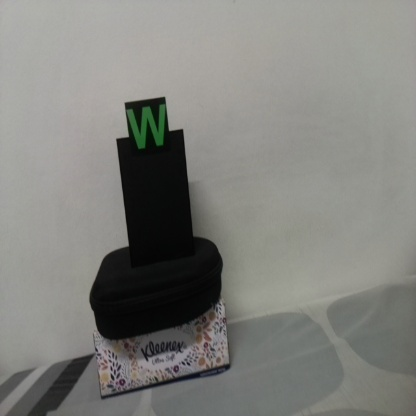id_12: (125, 103, 170, 155)
